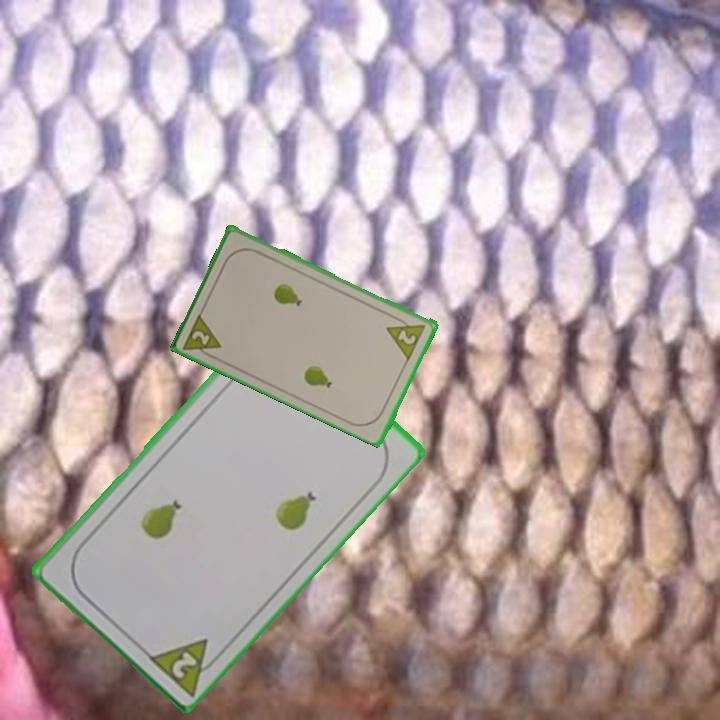2p: (142, 633, 225, 697), (180, 309, 225, 363), (383, 311, 429, 362)
